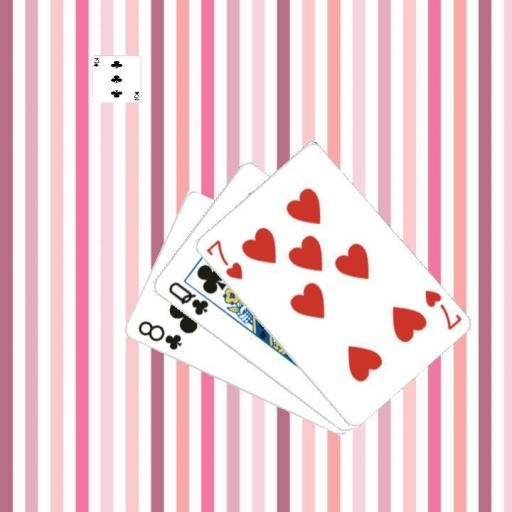7H: (420, 287, 464, 332), (202, 236, 244, 282)
8C: (134, 317, 183, 352)
QC: (164, 278, 210, 317)
